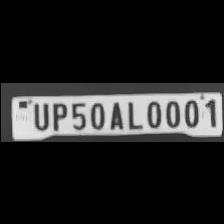0: (86, 98, 106, 128), (142, 97, 162, 127), (180, 96, 200, 126), (163, 96, 181, 128)
1: (200, 96, 220, 128)
5: (66, 98, 86, 130)
A: (106, 98, 124, 128)
L: (123, 97, 141, 128)
P: (47, 99, 66, 129)
U: (28, 99, 48, 129)
